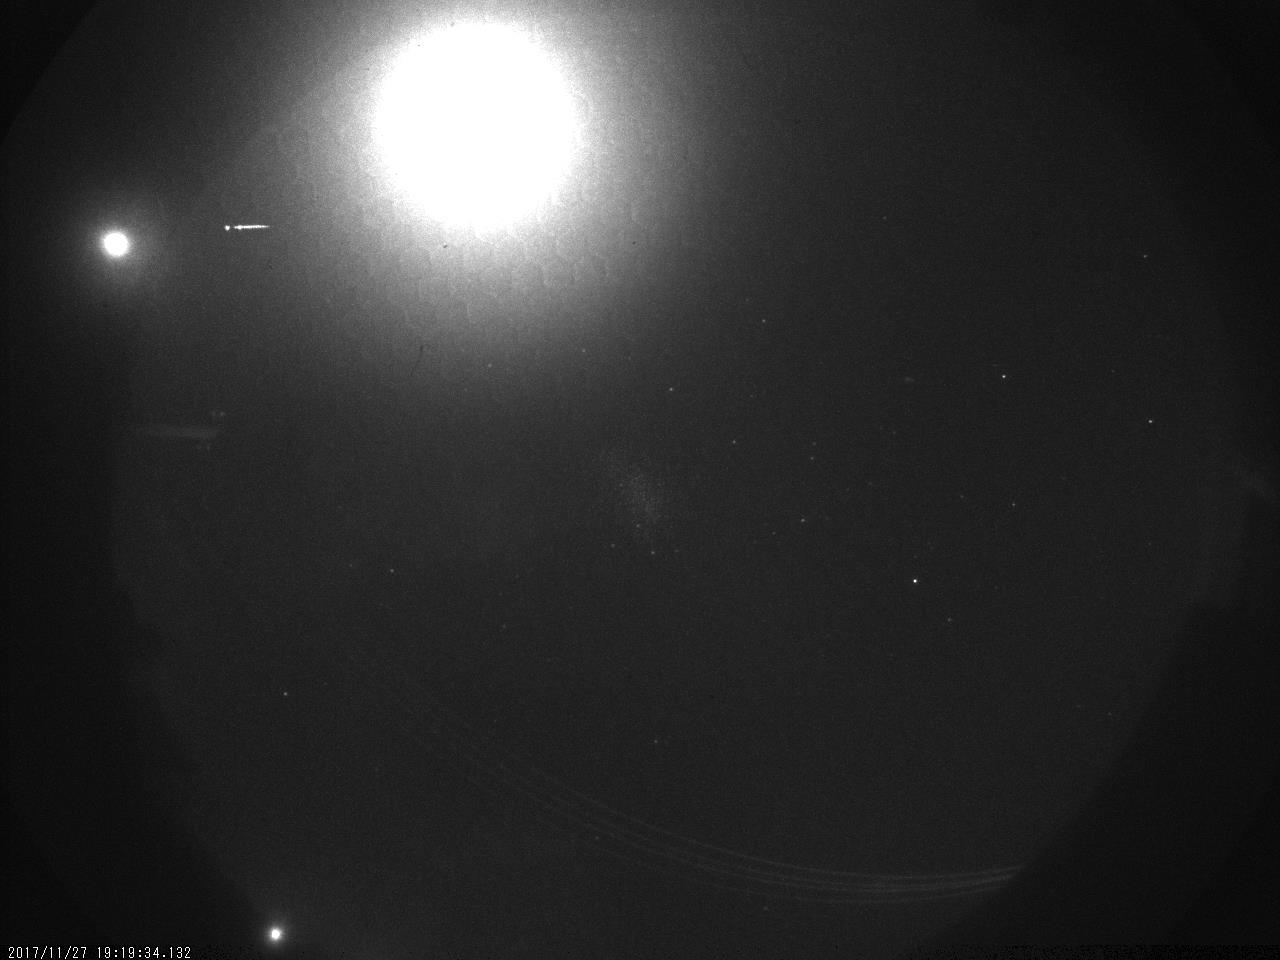meteor: (206, 217, 277, 239)
